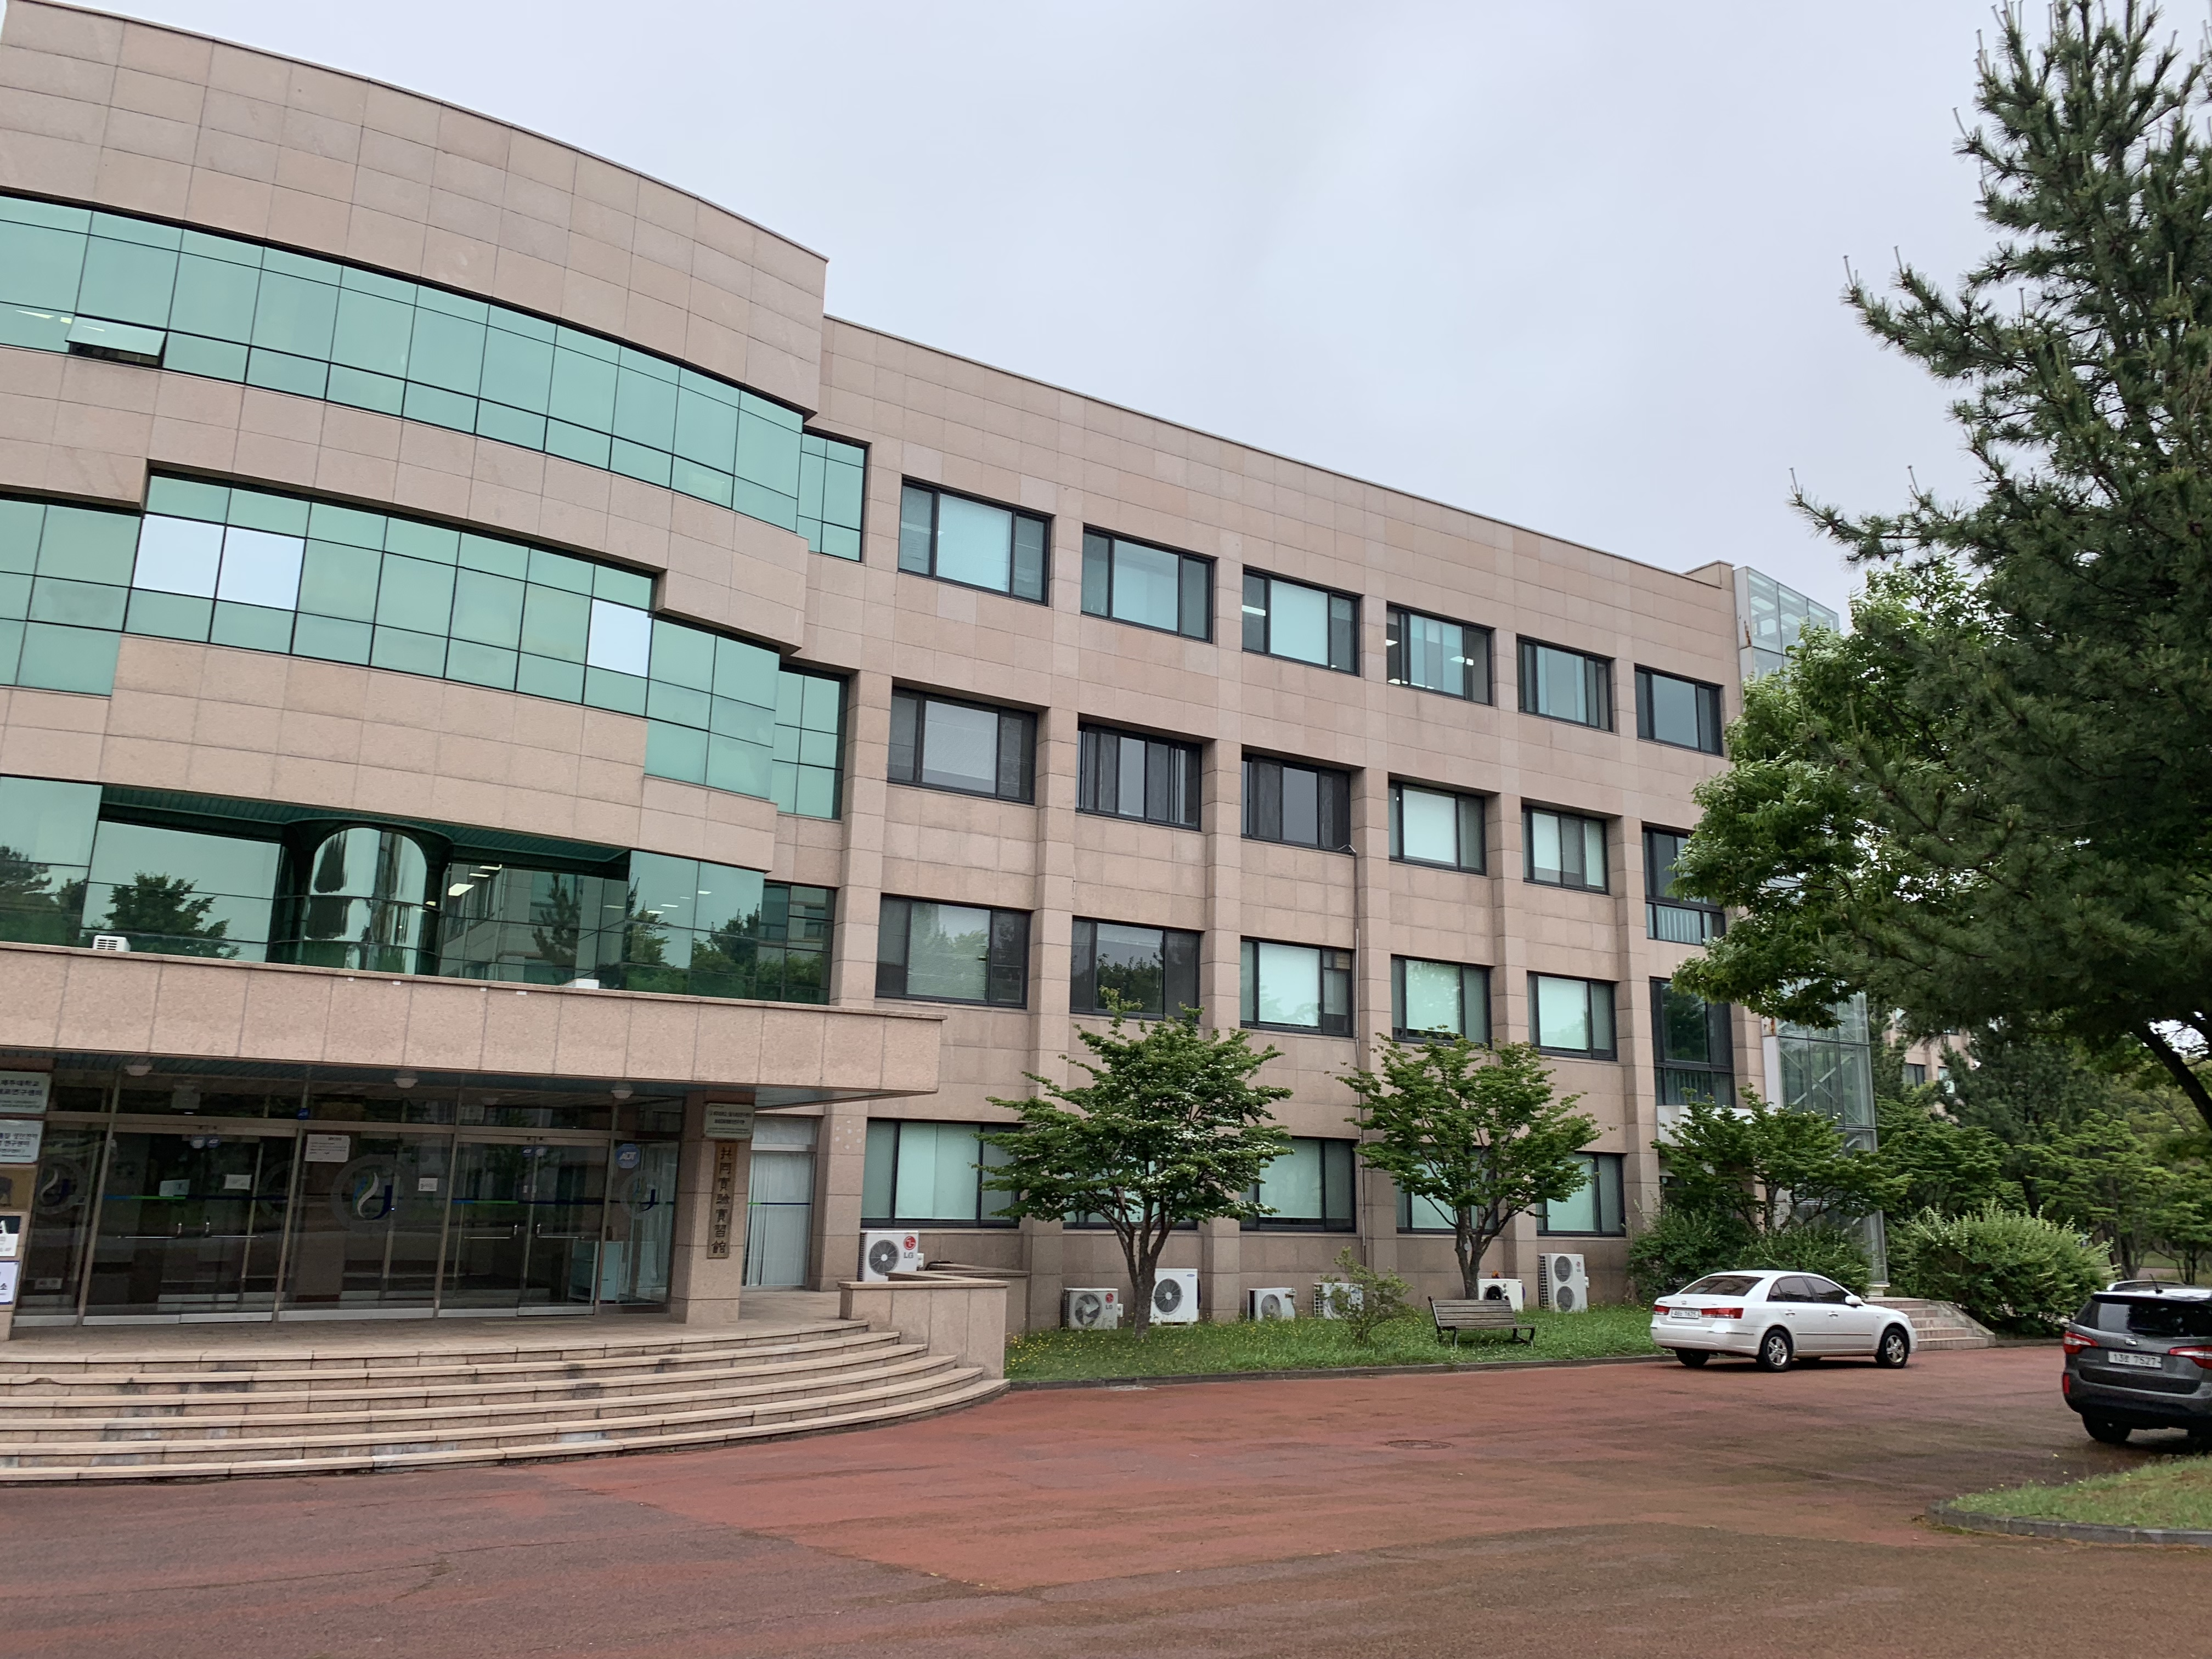Joint Experimental Labs: (204, 186, 1791, 1291)
